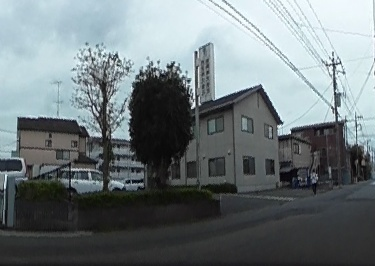person: (308, 166, 319, 193)
